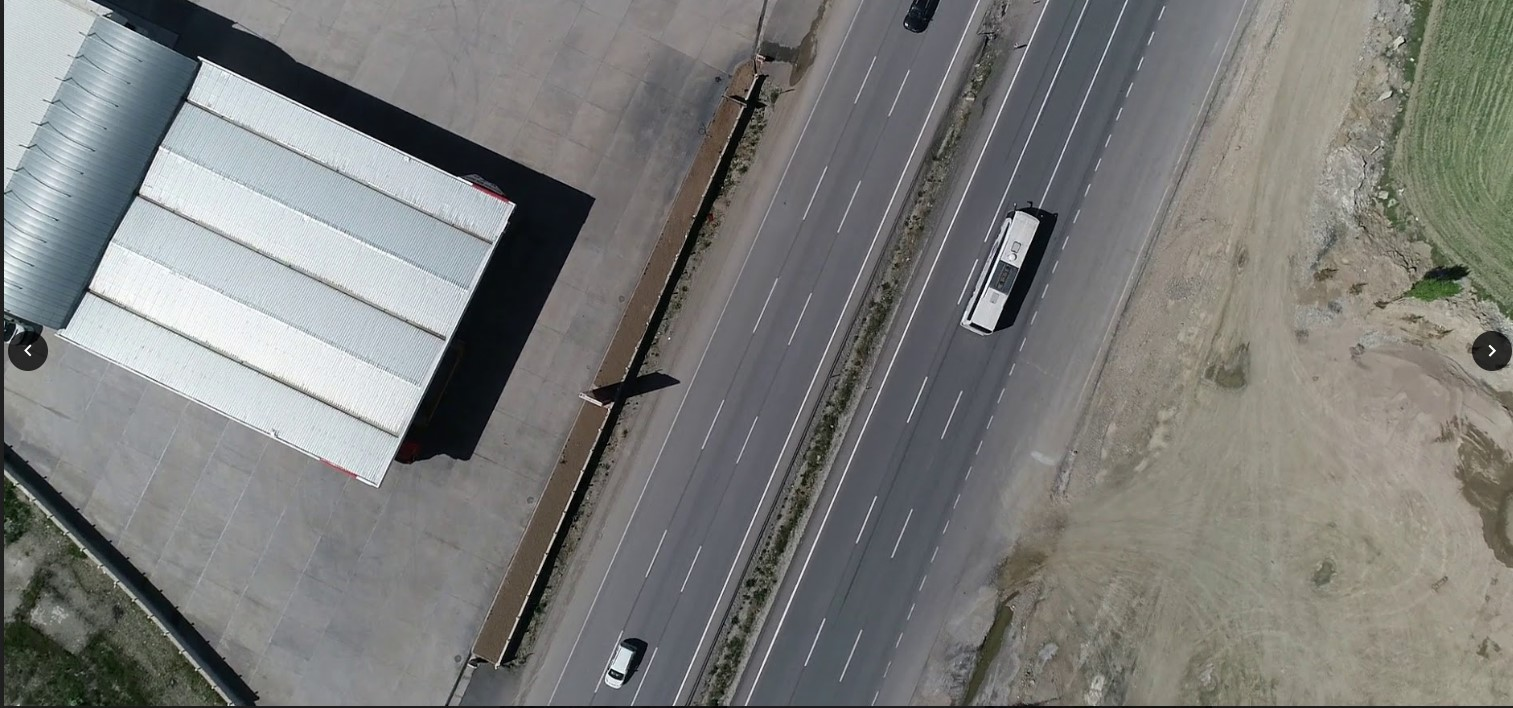araba: (603, 645, 635, 689), (902, 1, 941, 35)
otobus: (962, 203, 1039, 337)
